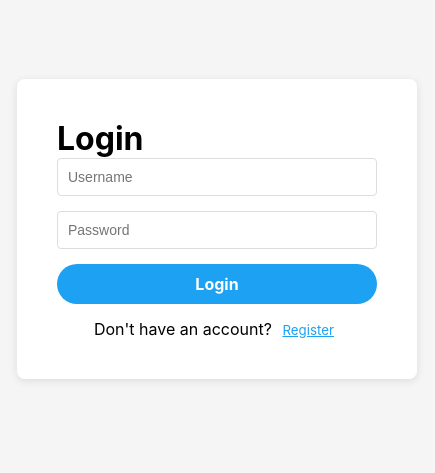
Test: Login Component › toggles between login and register forms
Click the button "Register" at point(308, 330), box [276,321,340,339]
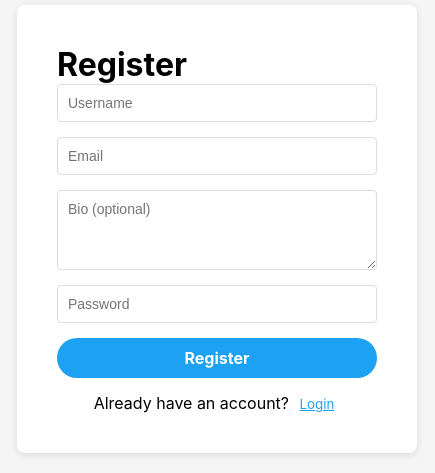
Check: the heading "Register" is shown, box [57,45,187,84]
Check: the field with placeholder "Email" is shown, box [57,137,377,175]
